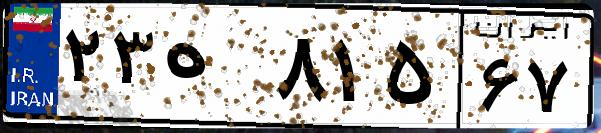1: (330, 28, 385, 110)
2: (57, 26, 110, 100)
3: (110, 28, 158, 98)
5: (385, 28, 445, 110)
6: (475, 38, 525, 113)
7: (525, 38, 570, 115)
8: (270, 28, 330, 110)
ه: (158, 20, 270, 120)
